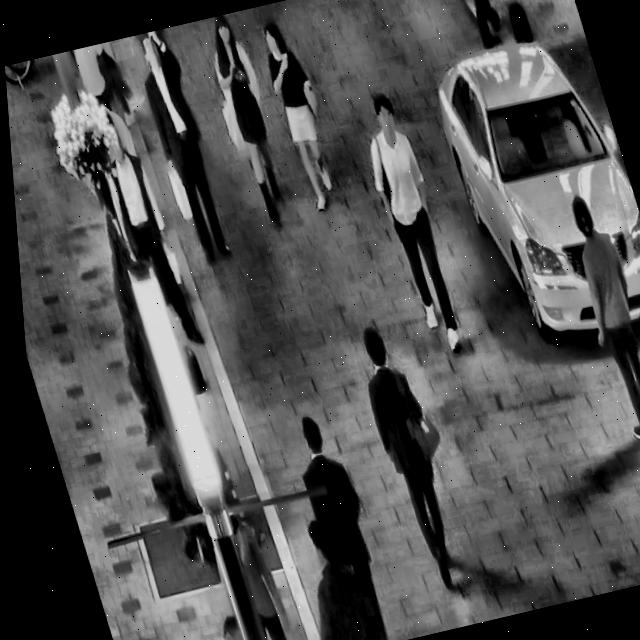light_vehicle: (409, 8, 640, 362)
